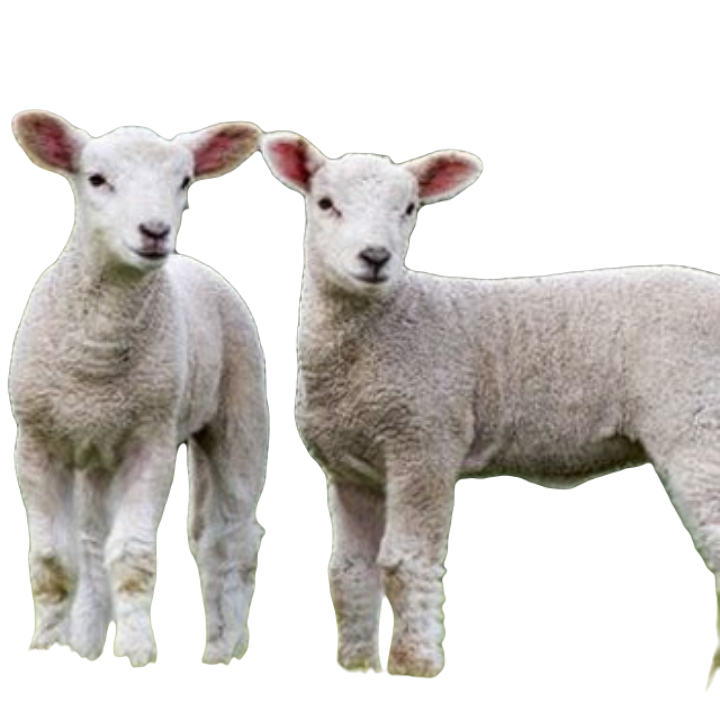Sheep: (260, 124, 719, 679), (4, 106, 271, 669)
